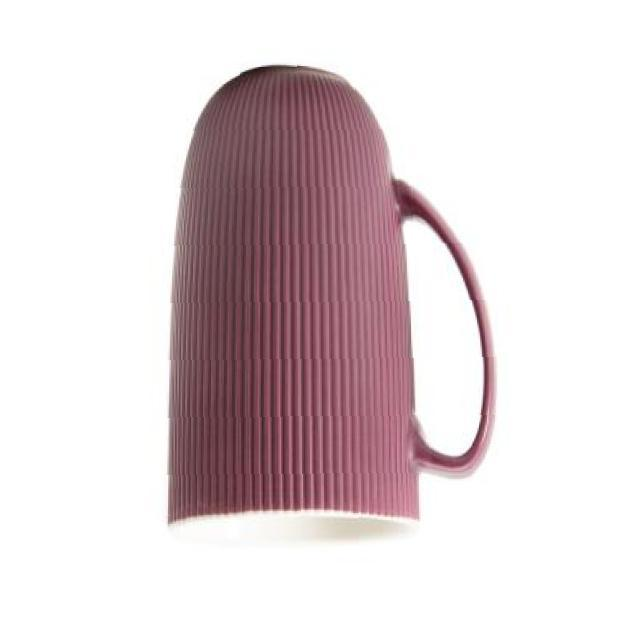cup: (150, 53, 505, 550)
